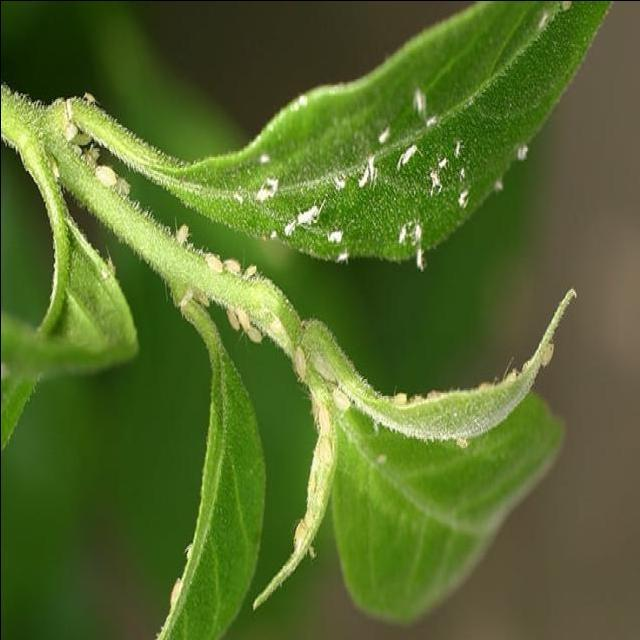aphid: (88, 146, 124, 204), (287, 332, 311, 408), (445, 424, 476, 464), (239, 319, 267, 356), (166, 216, 193, 254), (177, 270, 195, 320), (226, 299, 243, 343), (243, 254, 261, 294), (372, 446, 390, 478)
